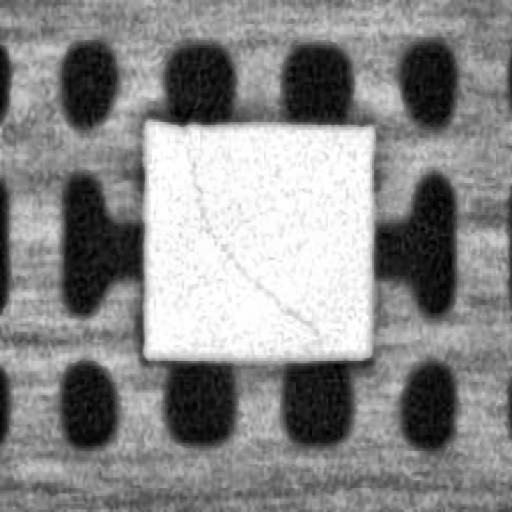DIE_CRACK: (200, 220, 317, 326)
